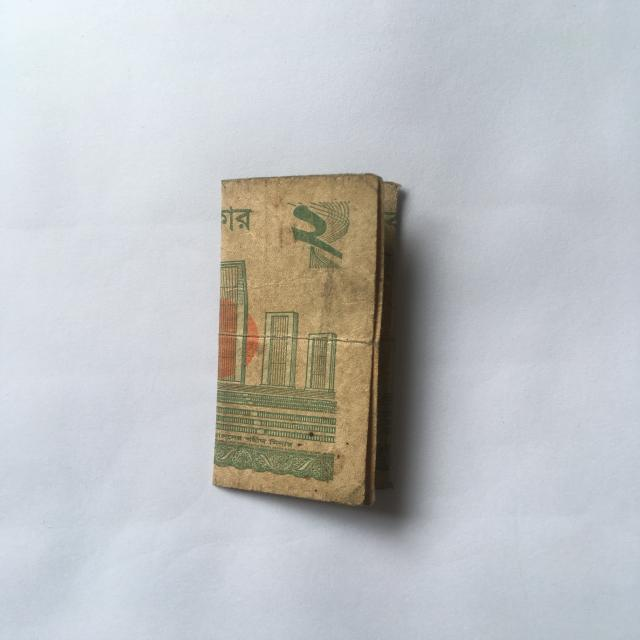Taka: (216, 173, 396, 497)
